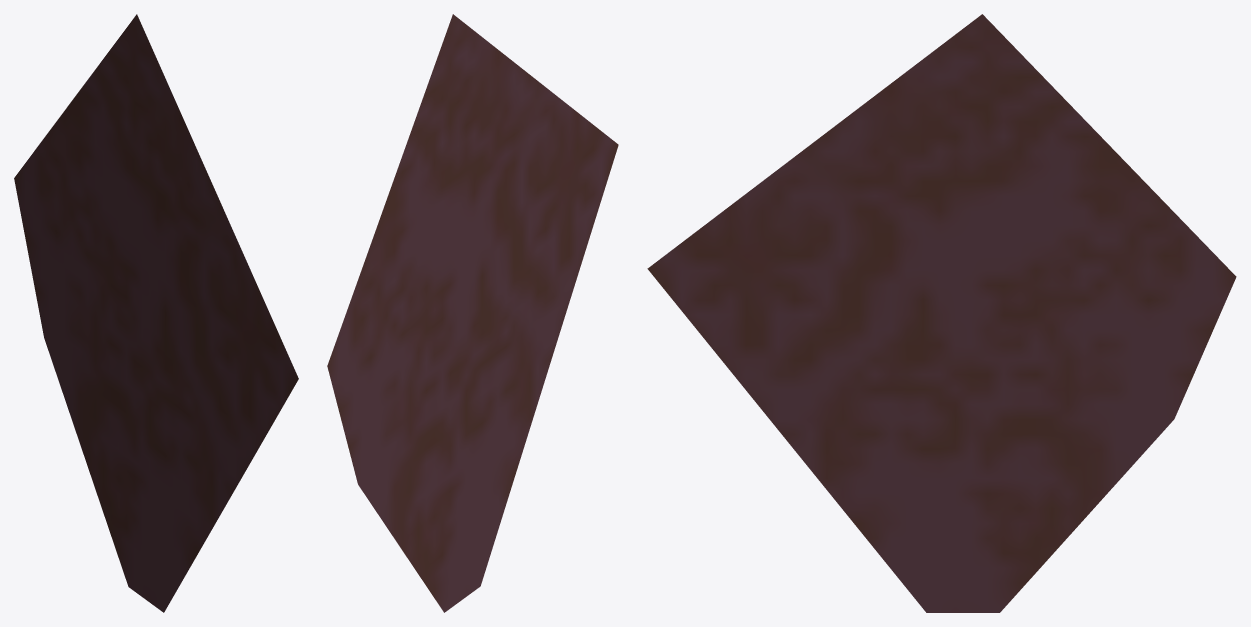
Rendered from Past_BrokenWall1.fbx.
3 views of the same model, side by side, from view 1: azimuth 30°, elevation 25°; view 2: azimuth 150°, elevation 25°; view 3: azimuth 270°, elevation 25° (orthographic). The views are drawn at different scales.
Parts seen in each view (by area): view 1: polySurface399; view 2: polySurface399; view 3: polySurface399.
Part boxes in pixels (x1,y1,x2,y2): polySurface399: (14, 14, 298, 612); polySurface399: (327, 14, 618, 612); polySurface399: (647, 14, 1236, 612).
Bounding box in the file's own units: 0 × 98.57 × 87.86.
Materials: 1 (1 with a texture image).
